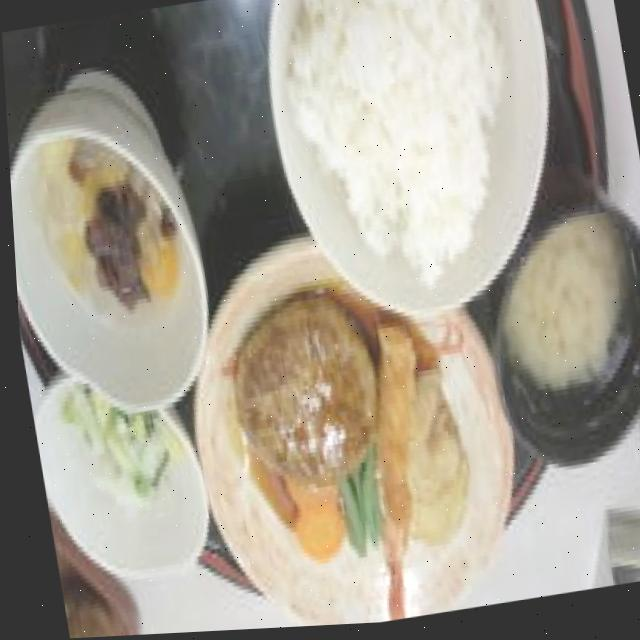汤锅炖物: (448, 154, 640, 491)
炸货点心: (331, 335, 454, 627)
熟制海鲜: (331, 335, 454, 627)
米饭主食: (245, 0, 593, 345)
